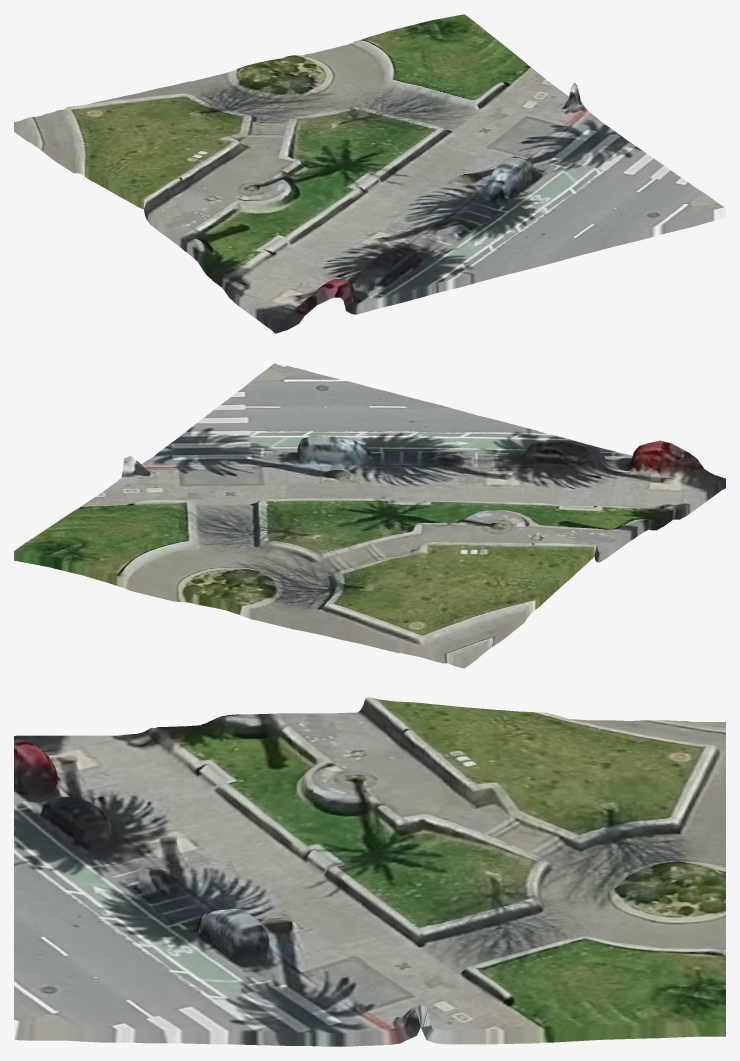
The model's file is z20-167786-405219-h0-yup-uvflip-v3-world.glb.
The picture shows the model from 3 angles, top to bottom: view 1: azimuth 30°, elevation 25°; view 2: azimuth 150°, elevation 25°; view 3: azimuth 270°, elevation 25°; orthographic projection. The views are drawn at different scales.
Size of the model in its own units: 30.16 by 2.52 by 30.32.
1 material, 1 textured.
